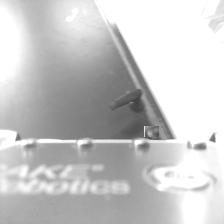Door Handle: (108, 88, 146, 116)
Lock: (145, 125, 159, 138)
